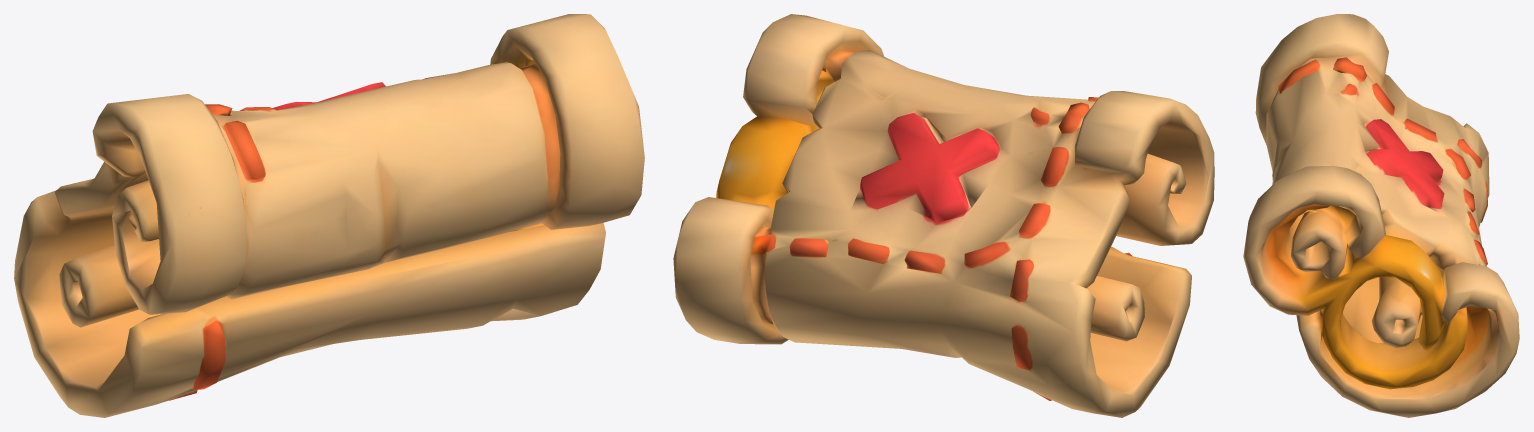
File: mapscroll.glb
3 views of the same model, side by side, from view 1: azimuth 30°, elevation 25°; view 2: azimuth 150°, elevation 25°; view 3: azimuth 270°, elevation 25° (orthographic). The views are drawn at different scales.
Visible parts, largest first — view 1: mapscroll; view 2: mapscroll; view 3: mapscroll.
Boxes of the visible parts, x1,y1,x2,y2 form: mapscroll: (14,14,644,417); mapscroll: (673,14,1214,417); mapscroll: (1243,14,1519,417).
Size of the model in its own units: 1.3 by 0.8739 by 0.893.
1 material, 1 textured.
